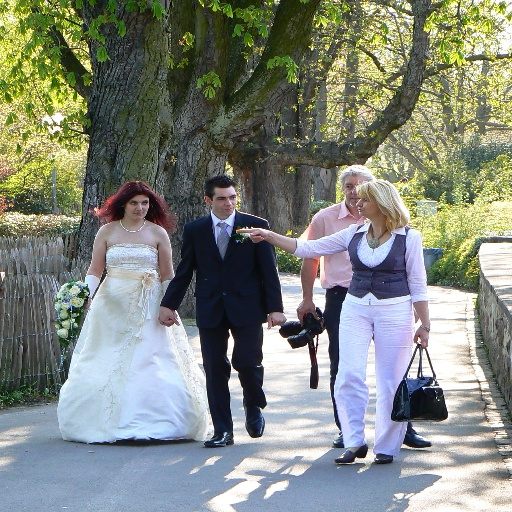hand: (293, 296, 322, 327), (233, 226, 271, 243), (156, 306, 180, 327), (263, 311, 288, 330), (413, 325, 431, 350), (157, 309, 179, 329), (83, 296, 92, 309)
